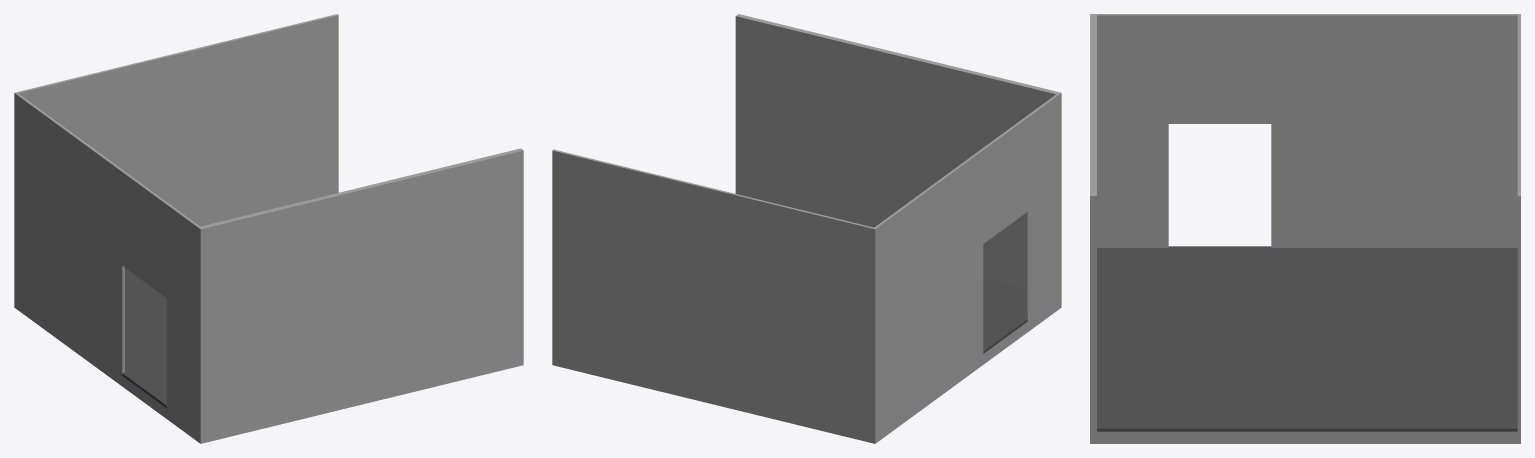
Rendered from 4x2 first-3.obj.
3 views of the same model, side by side, from view 1: azimuth 30°, elevation 25°; view 2: azimuth 150°, elevation 25°; view 3: azimuth 270°, elevation 25° (orthographic). The views are drawn at different scales.
Visible parts, largest first — view 1: 4x2 first-3; view 2: 4x2 first-3; view 3: 4x2 first-3.
Part boxes in pixels (box(x1,y1,x2,y2)): 4x2 first-3: box(14, 14, 523, 443); 4x2 first-3: box(552, 14, 1061, 443); 4x2 first-3: box(1090, 14, 1520, 443).
Bounding box in the file's own units: 126 × 80 × 126.
Materials: 1 (1 with a texture image).
